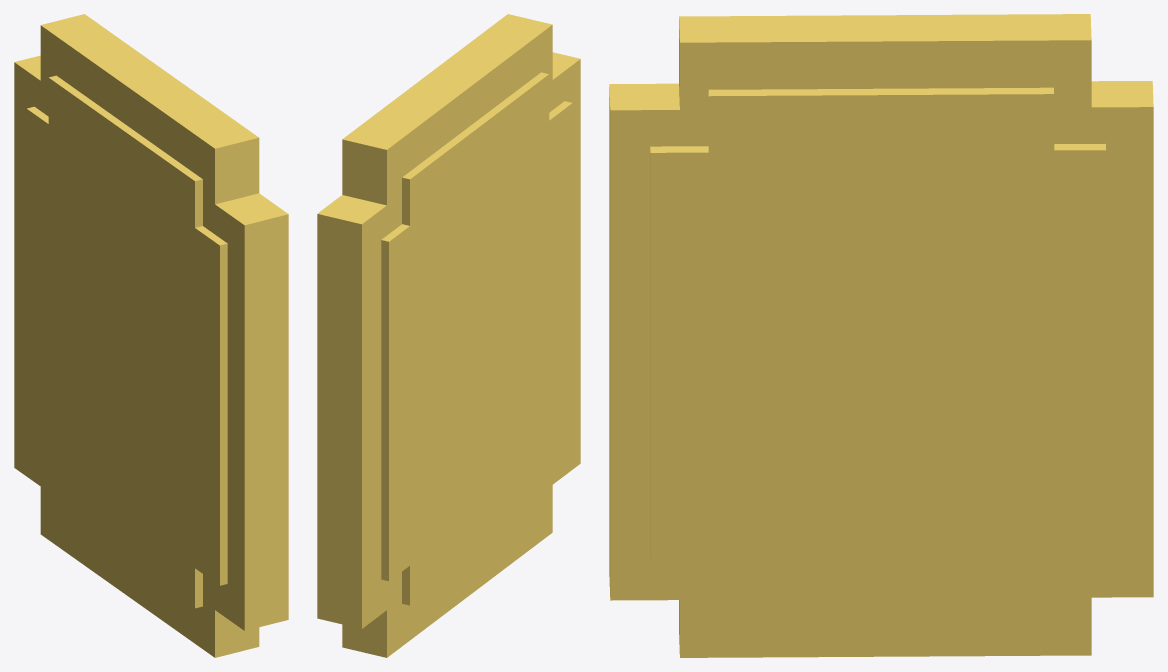
File: Coin.fbx
3 views of the same model, side by side, from view 1: azimuth 30°, elevation 25°; view 2: azimuth 150°, elevation 25°; view 3: azimuth 270°, elevation 25° (orthographic). The views are drawn at different scales.
Parts seen in each view (by area): view 1: Cube.001, Cube; view 2: Cube.001, Cube; view 3: Cube.001, Cube.
Part boxes in pixels (bbox=[...]): Cube.001: bbox=[26, 75, 227, 608]; Cube: bbox=[14, 14, 288, 657]; Cube.001: bbox=[381, 72, 572, 605]; Cube: bbox=[317, 14, 580, 657]; Cube.001: bbox=[650, 87, 1106, 612]; Cube: bbox=[609, 14, 1153, 657].
Size of the model in its own units: 18.18 by 130 by 104.
